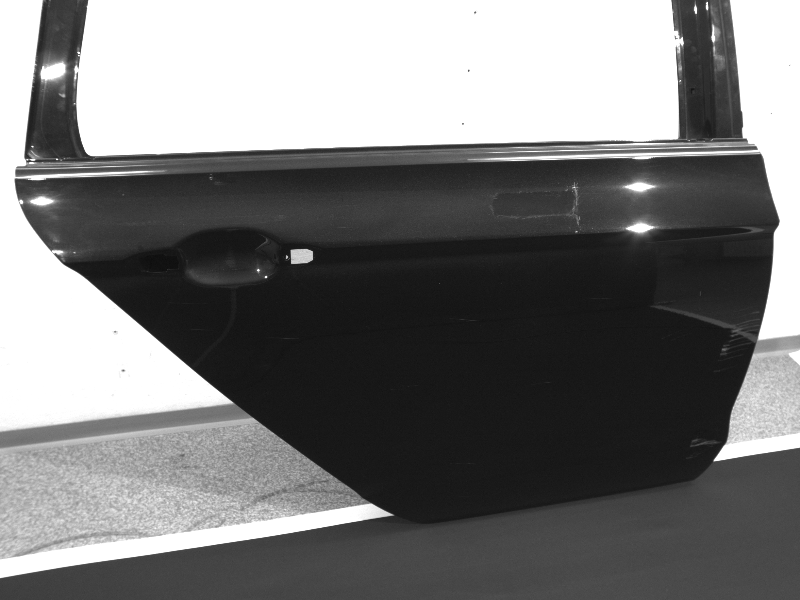scratch: (712, 306, 763, 376), (686, 435, 722, 461), (661, 330, 686, 342), (448, 316, 480, 323), (652, 300, 677, 306), (450, 461, 477, 466), (273, 336, 301, 340), (590, 297, 614, 301), (189, 327, 206, 332), (533, 381, 552, 385), (698, 289, 703, 297)
